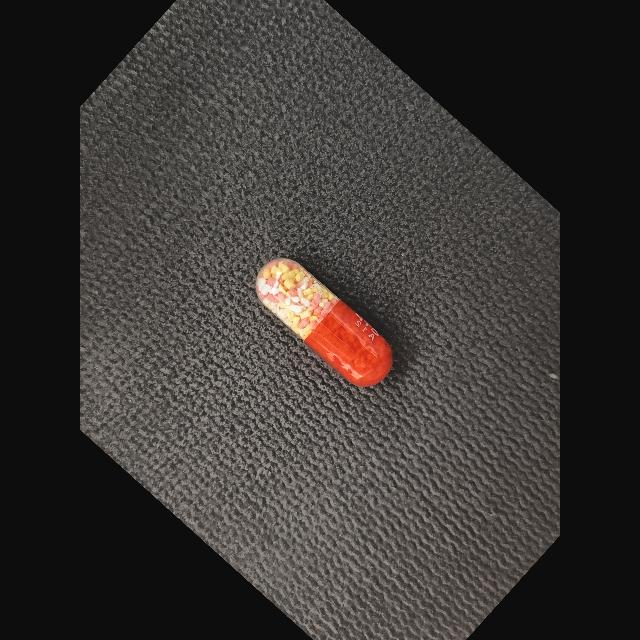Intact Capsule: (255, 258, 393, 387)
